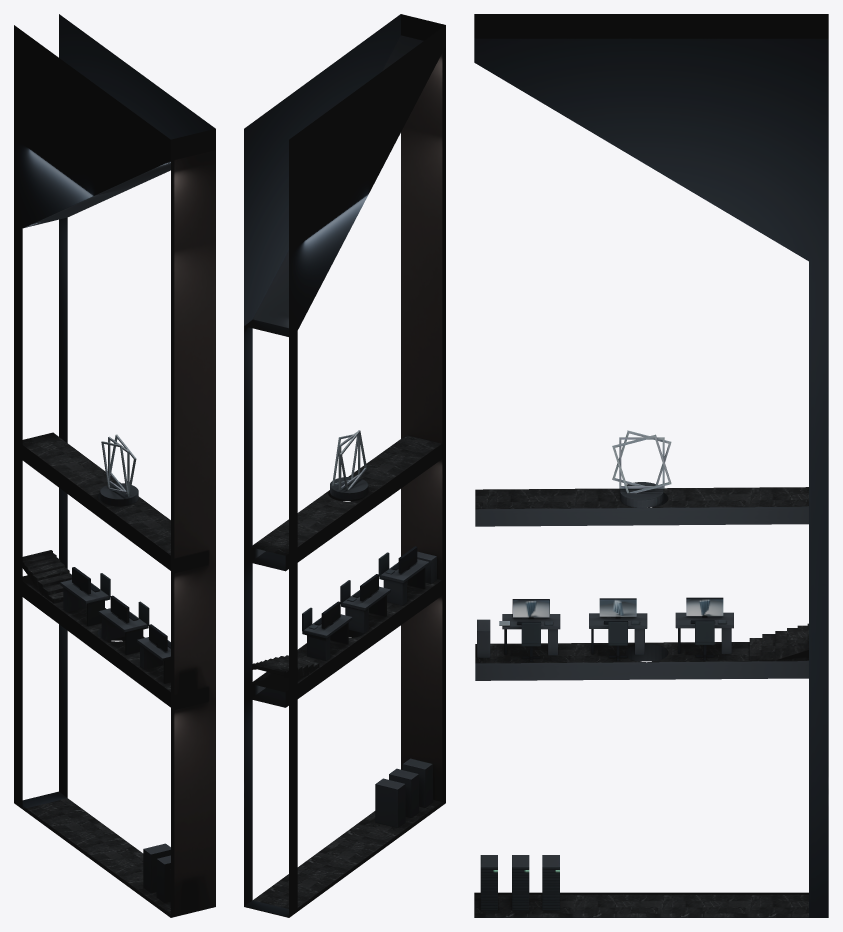
Rendered from cgi-front-studio-v02.glb.
3 renders of one model, left to right at view 1: azimuth 30°, elevation 25°; view 2: azimuth 150°, elevation 25°; view 3: azimuth 270°, elevation 25°, orthographic. The views are drawn at different scales.
Parts seen in each view (by area): view 1: CGI_STUDIO_BAKED_FRONT; view 2: CGI_STUDIO_BAKED_FRONT; view 3: CGI_STUDIO_BAKED_FRONT.
Boxes of the visible parts, x1,y1,x2,y2 form: CGI_STUDIO_BAKED_FRONT: (14,14,215,917); CGI_STUDIO_BAKED_FRONT: (244,14,445,917); CGI_STUDIO_BAKED_FRONT: (474,14,828,917).
Bounding box in the file's own units: 0.4193 × 6.93 × 2.53.
Materials: 1 (1 with a texture image).
